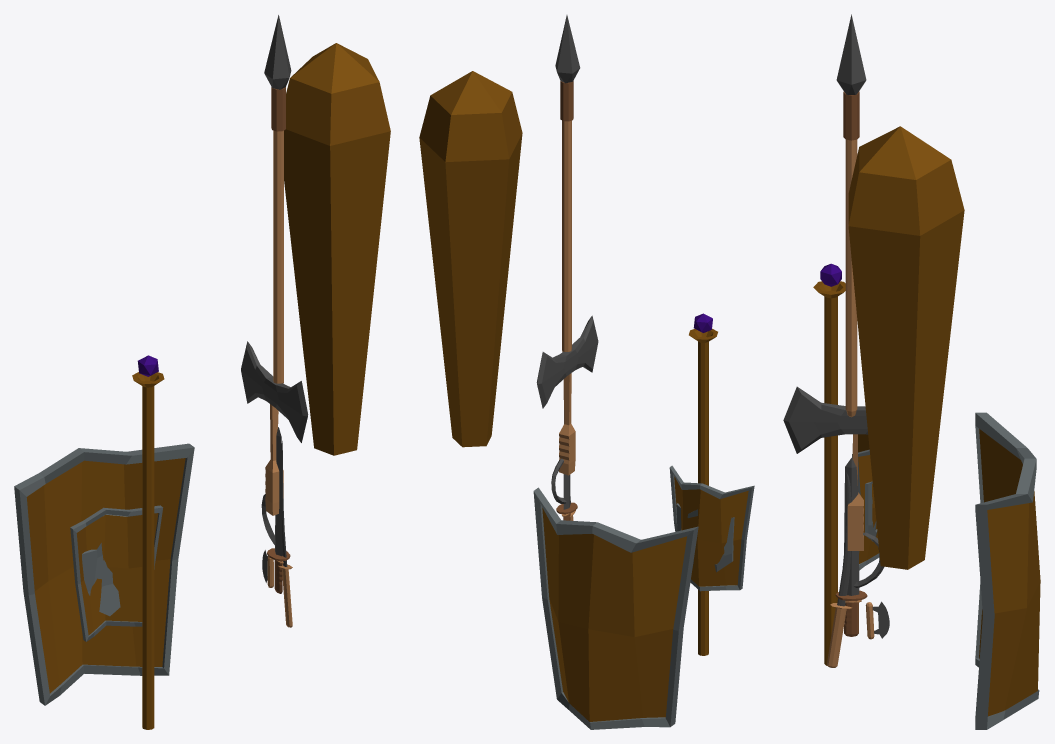
Rendered from Medieval.fbx_Equipment.fbx.
3 renders of one model, left to right at view 1: azimuth 30°, elevation 25°; view 2: azimuth 150°, elevation 25°; view 3: azimuth 270°, elevation 25°, orthographic. The views are drawn at different scales.
Visible parts, largest first — view 1: Club, LargeWoodShield, WoodShield, Sceptre, Spear, Axe, MetalShield, Sword, Katana; view 2: LargeWoodShield, Club, WoodShield, Spear, Axe, Sceptre, MetalShield; view 3: Club, LargeWoodShield, Sceptre, Spear, Axe, Sword, Katana, WoodShield, Ulu, MetalShield.
Part boxes in pixels (x1,y1,x2,y2): Club: (284, 43, 390, 455); LargeWoodShield: (14, 443, 194, 705); WoodShield: (70, 505, 163, 641); Sceptre: (132, 355, 164, 729); Spear: (264, 15, 291, 383); Axe: (241, 341, 308, 515); MetalShield: (82, 543, 120, 616); Sword: (267, 427, 290, 593); Katana: (278, 441, 292, 627); LargeWoodShield: (533, 487, 698, 729); Club: (419, 71, 522, 447); WoodShield: (669, 465, 754, 591); Spear: (555, 15, 580, 351); Axe: (536, 315, 598, 475); Sceptre: (689, 313, 717, 655); MetalShield: (676, 503, 734, 572); Club: (848, 126, 964, 569); LargeWoodShield: (975, 412, 1040, 729); Sceptre: (813, 263, 845, 665); Spear: (836, 14, 866, 417); Axe: (783, 386, 868, 550); Sword: (835, 458, 867, 636); Katana: (827, 473, 852, 667); WoodShield: (852, 434, 879, 570); Ulu: (865, 601, 889, 639); MetalShield: (865, 481, 877, 541).
Size of the model in its own units: 205 by 127 by 404.
